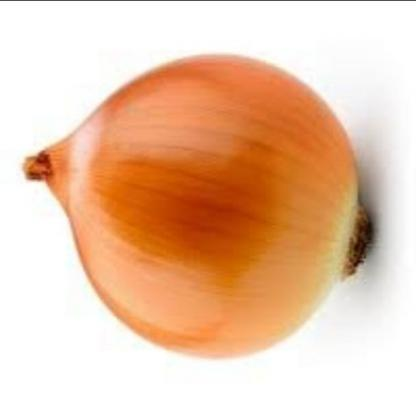onion: (24, 47, 384, 365)
